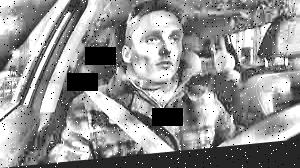seatbelt: (64, 59, 171, 163)
